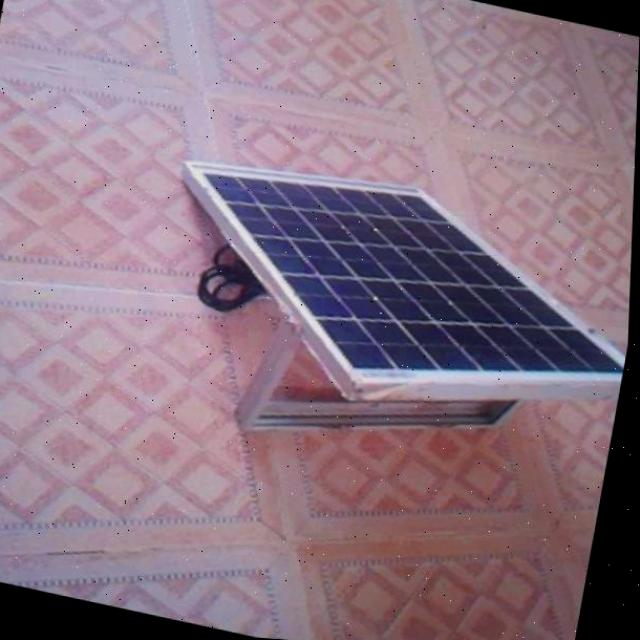Normal Solar Panel: (184, 156, 636, 424)
